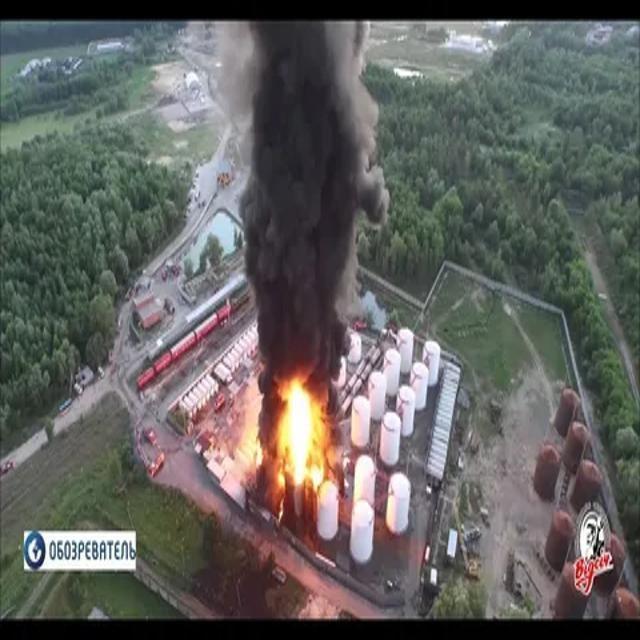Smoke: (234, 19, 390, 432)
